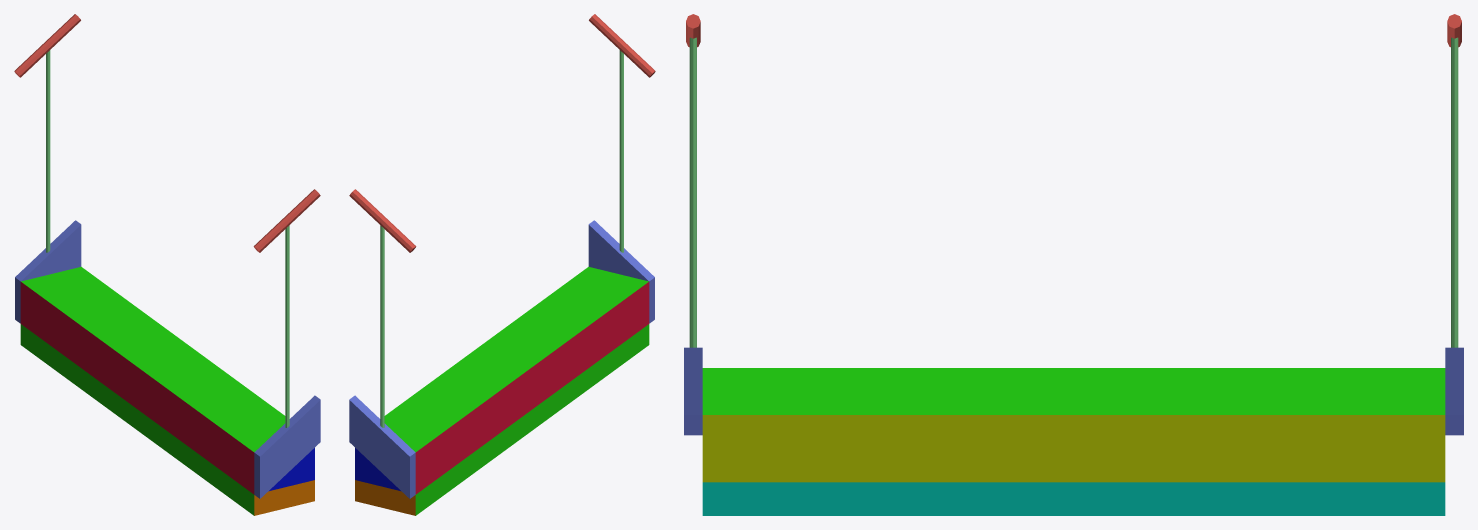
Rendered from Stair.fbx.
The picture shows the model from 3 angles, left to right: view 1: azimuth 30°, elevation 25°; view 2: azimuth 150°, elevation 25°; view 3: azimuth 270°, elevation 25°; orthographic projection. The views are drawn at different scales.
Parts seen in each view (by area): view 1: Stair; view 2: Stair; view 3: Stair.
Part boxes in pixels (x1,y1,x2,y2): Stair: [14, 14, 320, 515]; Stair: [349, 14, 655, 515]; Stair: [684, 14, 1463, 515].
Size of the model in its own units: 32.23 by 149 by 210.
